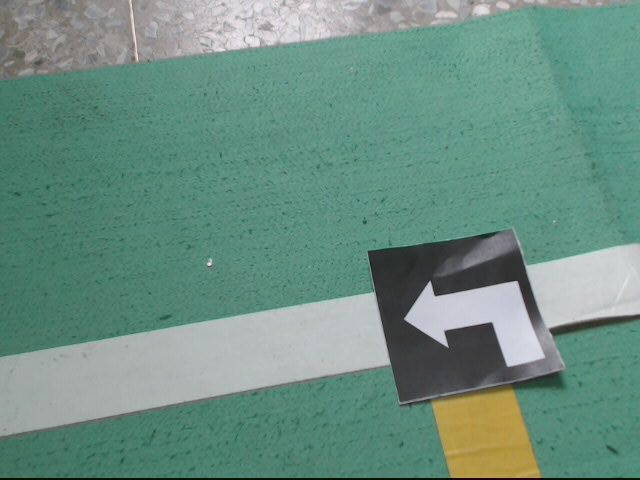left: (369, 229, 565, 403)
